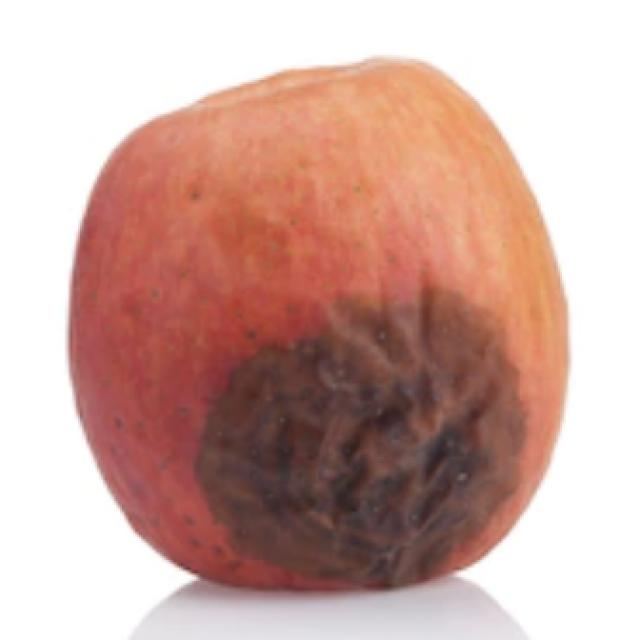rotten_apple: (68, 49, 569, 600)
